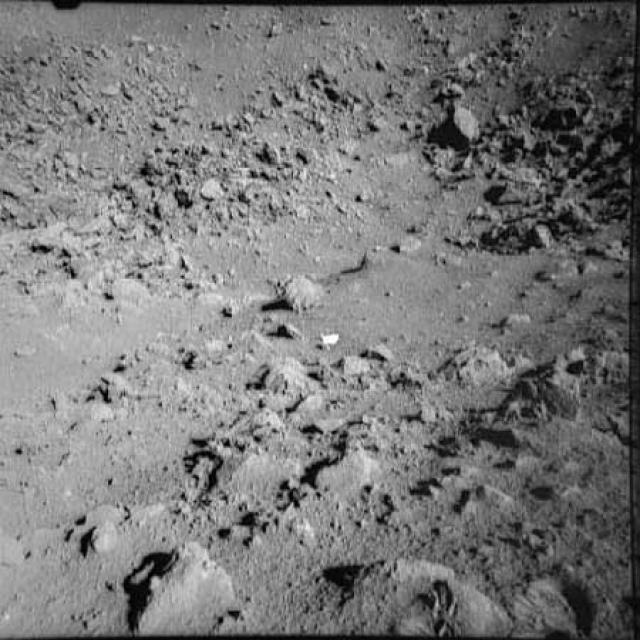rock: (366, 544, 513, 639), (116, 540, 250, 638), (541, 346, 632, 417), (427, 326, 514, 388), (318, 435, 392, 499), (252, 350, 336, 400), (73, 365, 140, 425), (65, 493, 131, 548), (274, 260, 342, 311)
